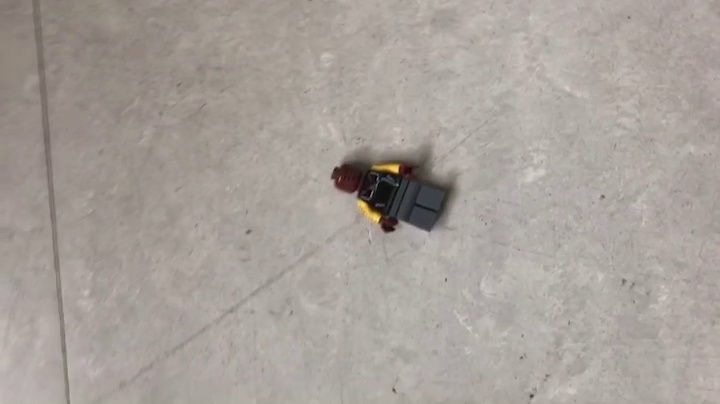people: (330, 161, 449, 234)
